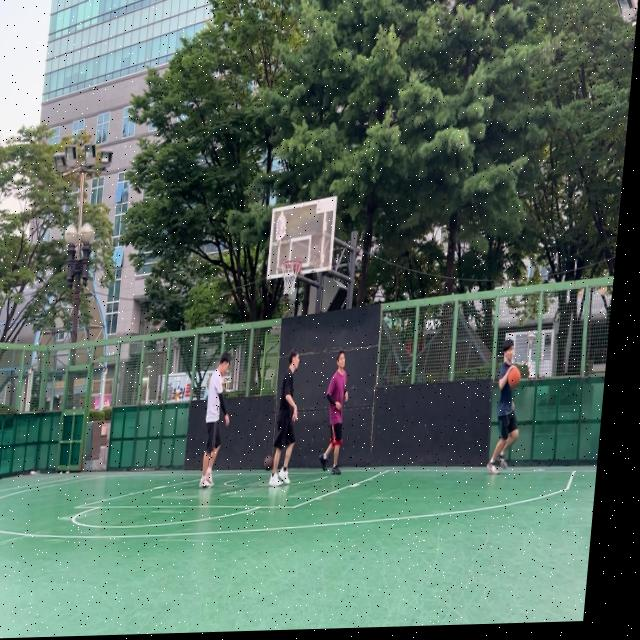basketball: (507, 367, 521, 388), (264, 455, 274, 472)
hoop: (278, 258, 303, 295)
